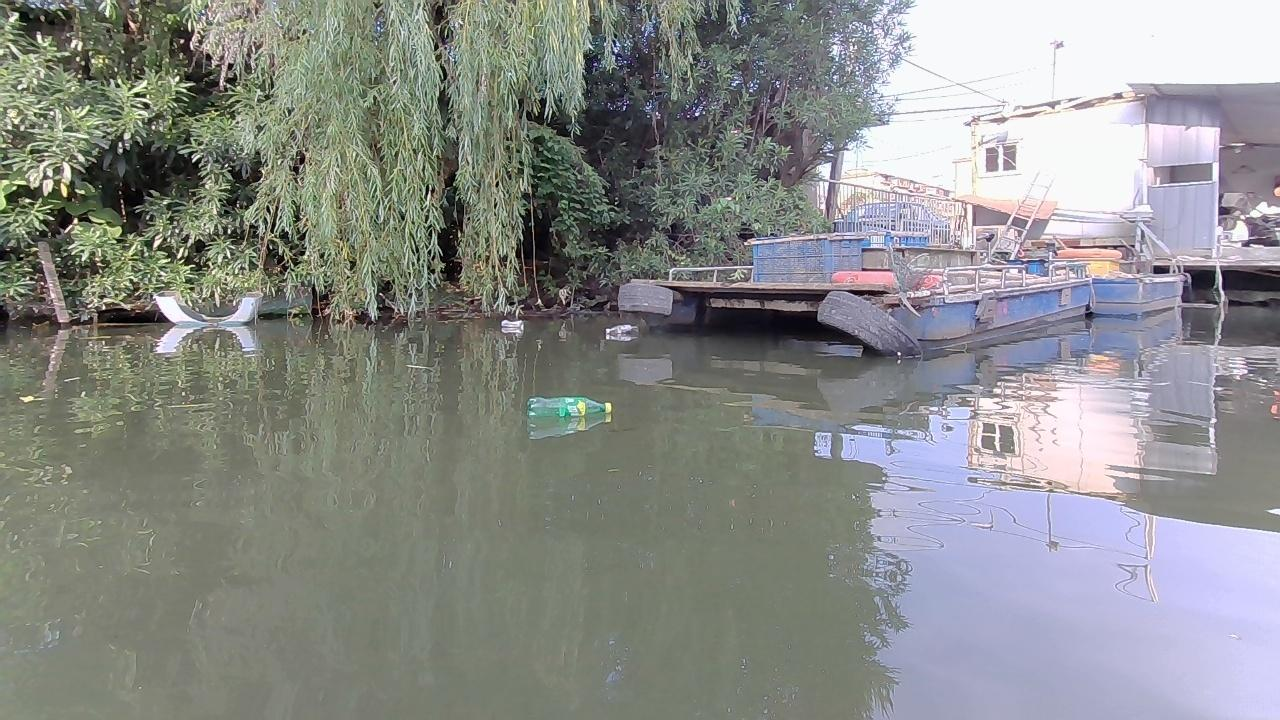bottle: (525, 392, 612, 426), (604, 323, 636, 337), (496, 316, 523, 329)
